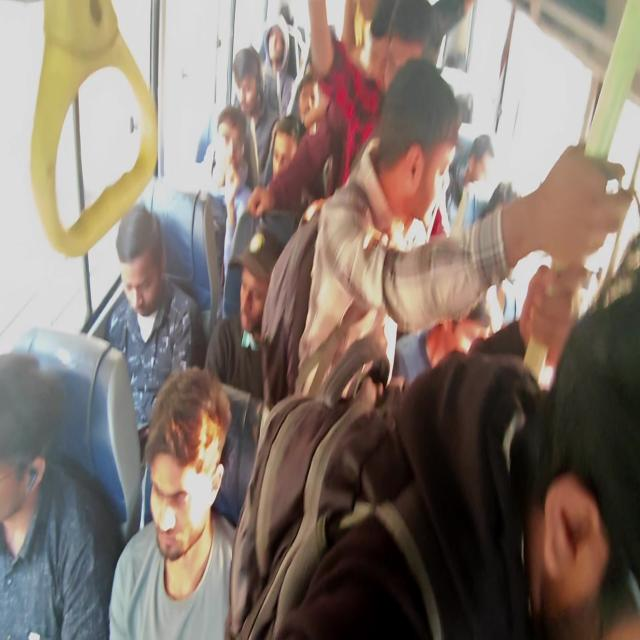person: (258, 56, 633, 408), (272, 287, 639, 638), (248, 0, 471, 228), (510, 287, 639, 638), (108, 366, 237, 638), (0, 350, 121, 638), (105, 202, 201, 458), (204, 228, 284, 398), (215, 105, 253, 318), (232, 45, 279, 186), (446, 132, 494, 234), (261, 22, 295, 119), (269, 114, 302, 184)
